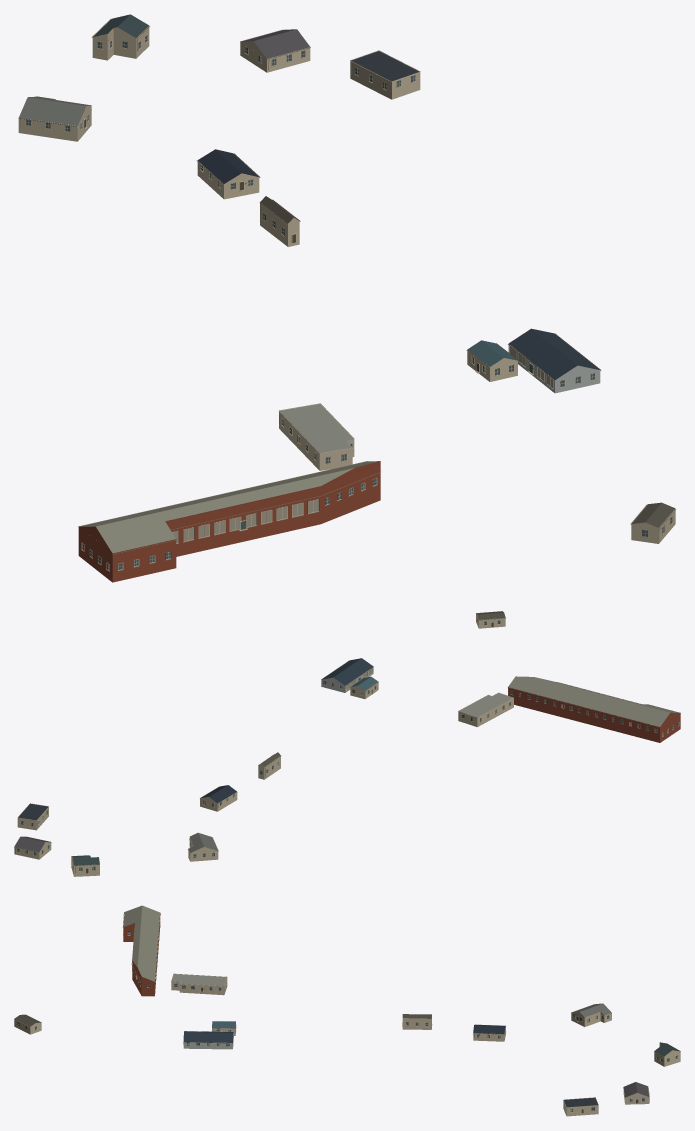
The picture shows the model from 3 angles, top to bottom: view 1: azimuth 30°, elevation 25°; view 2: azimuth 150°, elevation 25°; view 3: azimuth 270°, elevation 25°; orthographic projection. The views are drawn at different scales.
Parts seen in each view (by area): view 1: 2_-5_598630024_2, 2_-5_598630027_4, 2_-5_598630026_3; view 2: 2_-5_598630024_2, 2_-5_598630026_3, 2_-5_598630027_4; view 3: 2_-5_598630024_2, 2_-5_598630026_3, 2_-5_598630027_4.
Part boxes in pixels (x1,y1,x2,y2): 2_-5_598630024_2: [18, 14, 675, 571]; 2_-5_598630027_4: [78, 461, 380, 582]; 2_-5_598630026_3: [18, 26, 675, 543]; 2_-5_598630024_2: [14, 611, 680, 873]; 2_-5_598630026_3: [14, 613, 513, 876]; 2_-5_598630027_4: [508, 687, 680, 742]; 2_-5_598630024_2: [14, 905, 680, 1113]; 2_-5_598630026_3: [14, 978, 680, 1116]; 2_-5_598630027_4: [123, 913, 160, 996].
Bounding box in the file's own units: 207 × 17 × 319.
